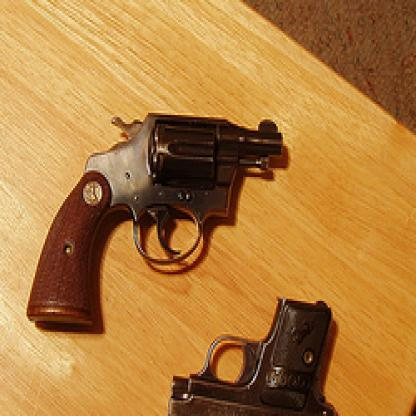gun: (18, 93, 293, 343), (160, 288, 354, 414)
